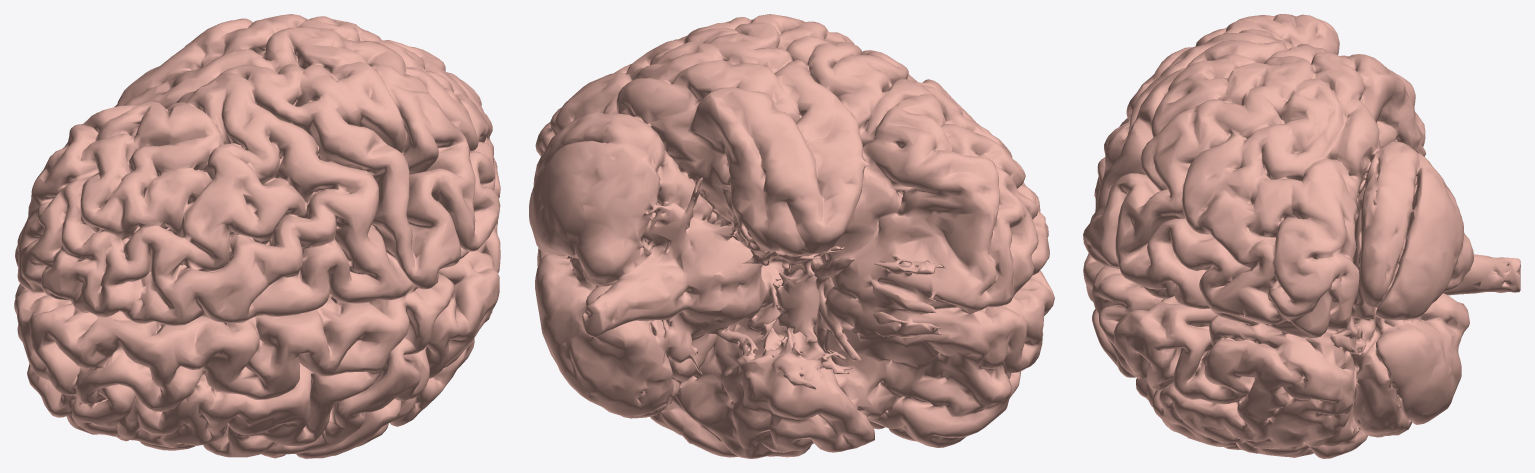
Rendered from brain-mri.glb.
The picture shows the model from 3 angles, left to right: view 1: azimuth 30°, elevation 25°; view 2: azimuth 150°, elevation 25°; view 3: azimuth 270°, elevation 25°; orthographic projection. The views are drawn at different scales.
Bounding box in the file's own units: 169 × 133 × 139.
